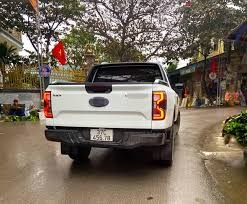Bien-so: (91, 129, 114, 141)
